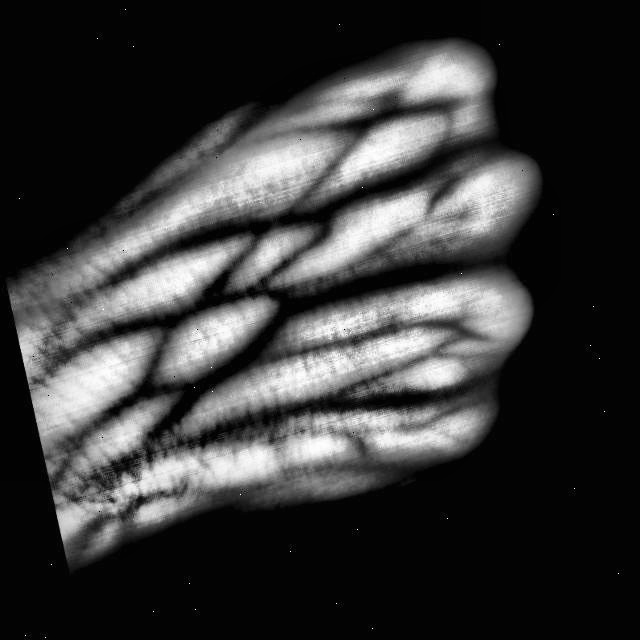Vein: (104, 288, 307, 483), (84, 185, 348, 298)
